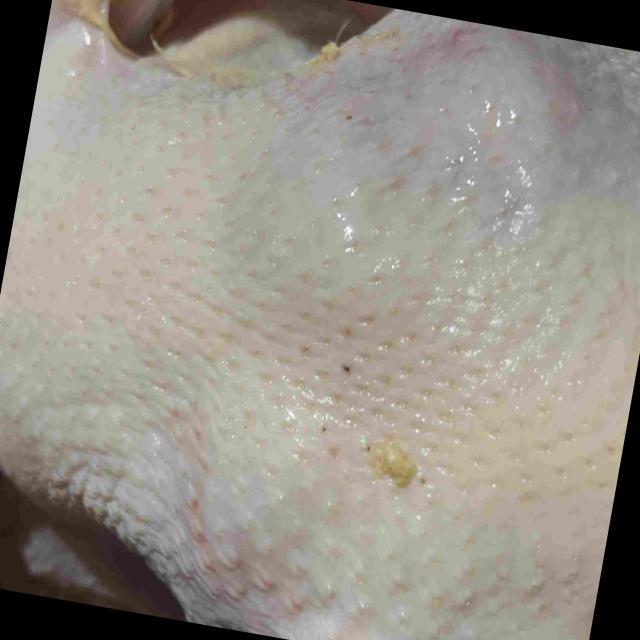back: (0, 99, 640, 640)
wing: (0, 492, 181, 620), (41, 0, 174, 59)
